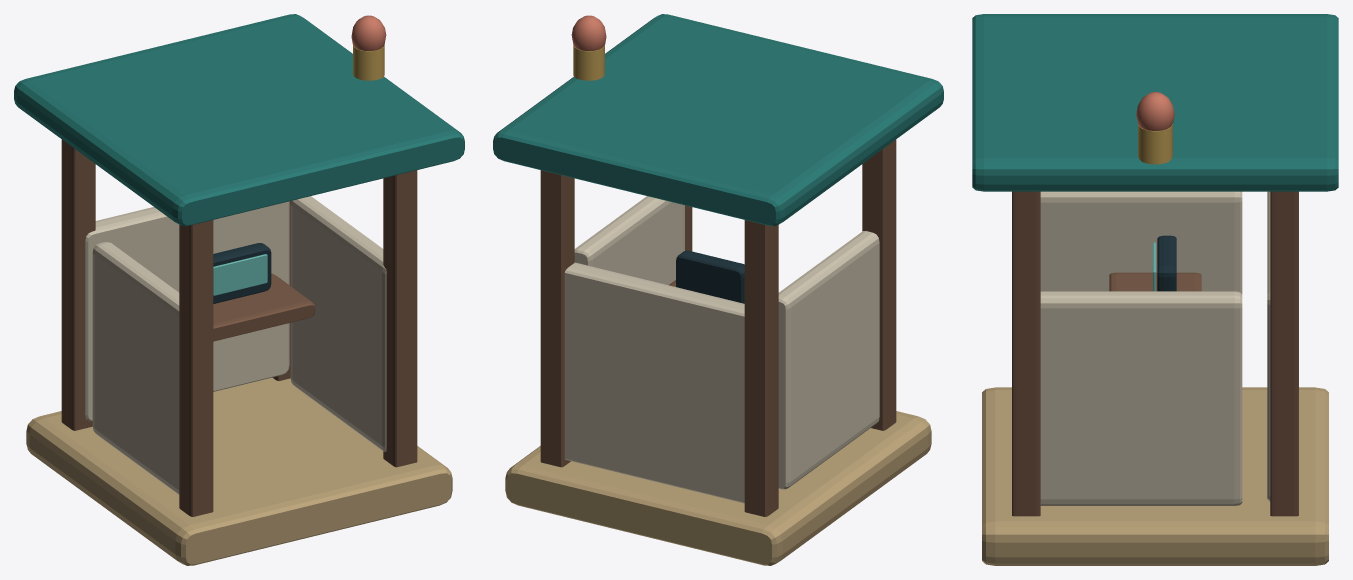
Rendered from guard-station.glb.
The picture shows the model from 3 angles, left to right: view 1: azimuth 30°, elevation 25°; view 2: azimuth 150°, elevation 25°; view 3: azimuth 270°, elevation 25°; orthographic projection. The views are drawn at different scales.
Visible parts, largest first — view 1: shell, emission; view 2: shell, emission; view 3: shell, emission.
Boxes of the visible parts, x1=… form: shell: x1=14, y1=14, x2=464, y2=565; emission: x1=213, y1=15, x2=386, y2=295; shell: x1=493, y1=14, x2=943, y2=565; emission: x1=571, y1=15, x2=606, y2=50; shell: x1=972, y1=14, x2=1338, y2=565; emission: x1=1136, y1=92, x2=1174, y2=291.
Bounding box in the file's own units: 1.9 × 2.71 × 1.9.
